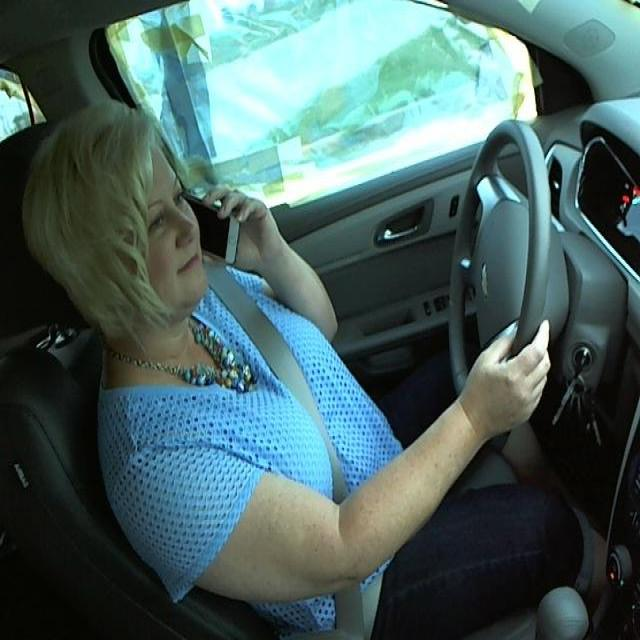using_phone: (19, 94, 286, 335)
